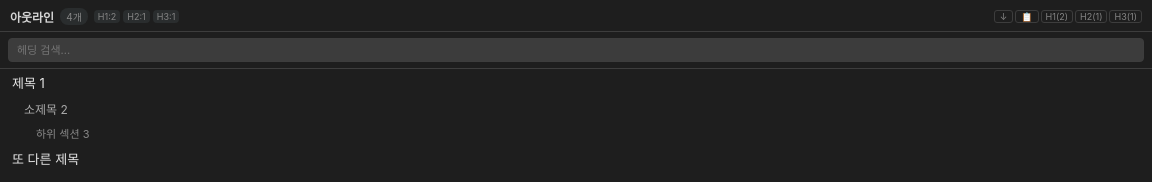
Scenario: OutlinePanel › H1 필터 클릭 시 H1 헤딩만 표시된다
The width and height of the screenshot is (1152, 182).
Click the button titled "H1만 보기".
click(1057, 16)  # box [1040,10,1073,23]
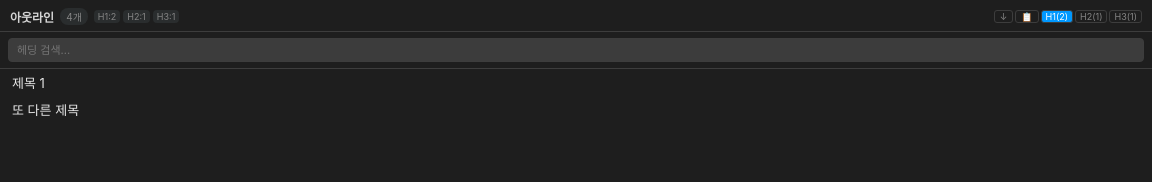
Expected: the text "제목 1" is shown, [12,75,45,91]
Result: the text "소제목 2" is gone
Result: the text "하위 섹션 3" is gone
